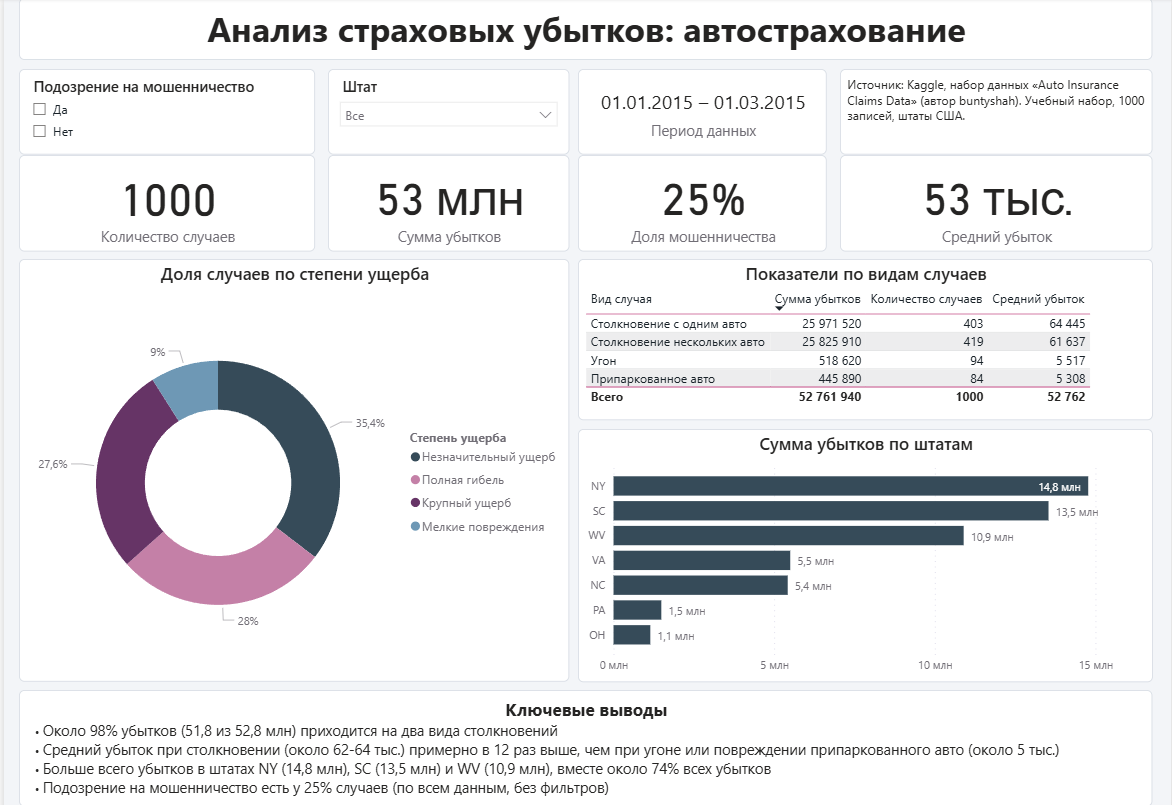

What the dashboard file says about the page in this screenshot:
{"tool":"powerbi","page":{"name":"Страница 1","canvas":[1280,900],"ordinal":0},"visuals":[{"type":"card","fields":{"Values":["insurance_claims.Количество случаев"]},"box":[16.7,171.9,324.8,106],"z":0},{"type":"card","fields":{"Values":["insurance_claims.Сумма убытков"]},"box":[356.1,171.9,264.6,106],"z":1000},{"type":"card","fields":{"Values":["insurance_claims.Средний убыток"]},"box":[917.6,171.9,342.7,106],"z":2000},{"type":"card","fields":{"Values":["insurance_claims.Доля мошенничества"]},"box":[629.6,171.9,273.5,106],"z":3000},{"type":"tableEx","title":"Показатели по видам случаев","fields":{"Values":["insurance_claims.incident_type","insurance_claims.Сумма убытков","insurance_claims.Количество случаев","insurance_claims.Средний убыток"]},"box":[629.6,286.9,630.7,177.5],"z":4000},{"type":"donutChart","title":"Доля случаев по степени ущерба","fields":{"Category":["insurance_claims.incident_severity"],"Y":["insurance_claims.Количество случаев"]},"box":[16.7,286.9,603.9,464.4],"z":5000},{"type":"slicer","fields":{"Values":["insurance_claims.fraud_reported"]},"box":[16.7,78.1,324.8,93.8],"z":6000},{"type":"slicer","fields":{"Values":["insurance_claims.incident_state"]},"box":[356.1,78.1,264.6,93.8],"z":7000},{"type":"textbox","box":[16.7,0,1243.5,68.1],"z":8000},{"type":"clusteredBarChart","title":"Сумма убытков по штатам","fields":{"Category":["insurance_claims.Штат"],"Y":["insurance_claims.Сумма убытков"]},"box":[629.6,473.3,630.7,278],"z":9000},{"type":"textbox","box":[16.7,759.1,1243.5,128.4],"z":10000},{"type":"card","title":"Период данных (даты страховых случаев)","fields":{"Values":["insurance_claims.Период данных"]},"box":[629.6,78.1,273.5,93.8],"z":11000},{"type":"textbox","box":[917.6,78.1,342.7,93.8],"z":12000}]}

Visuals, with their boxes in screenshot pixels (x1, y1, x2, y2), scaled from the page's 1280x900 canvas onto the 1172x805 screenshot:
card - insurance_claims.Количество случаев: detection(15, 154, 313, 249)
card - insurance_claims.Сумма убытков: detection(326, 154, 568, 249)
card - insurance_claims.Средний убыток: detection(840, 154, 1154, 249)
card - insurance_claims.Доля мошенничества: detection(576, 154, 827, 249)
"Показатели по видам случаев" tableEx: detection(576, 257, 1154, 415)
"Доля случаев по степени ущерба" donutChart: detection(15, 257, 568, 672)
slicer - insurance_claims.fraud_reported: detection(15, 70, 313, 154)
slicer - insurance_claims.incident_state: detection(326, 70, 568, 154)
textbox: detection(15, 0, 1154, 61)
"Сумма убытков по штатам" clusteredBarChart: detection(576, 423, 1154, 672)
textbox: detection(15, 679, 1154, 794)
"Период данных (даты страховых случаев)" card: detection(576, 70, 827, 154)
textbox: detection(840, 70, 1154, 154)
